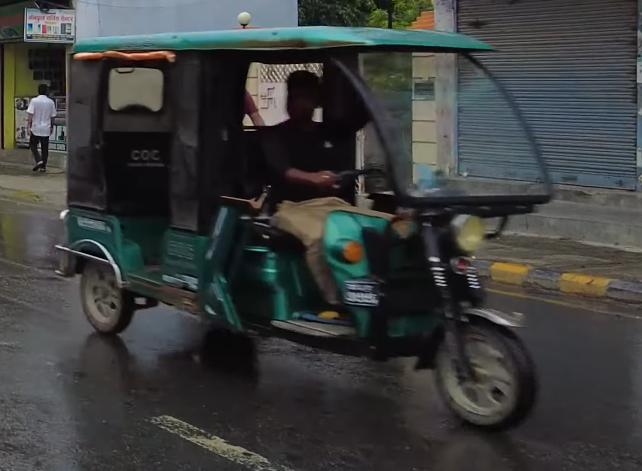e-rickshaw: (63, 21, 559, 439)
